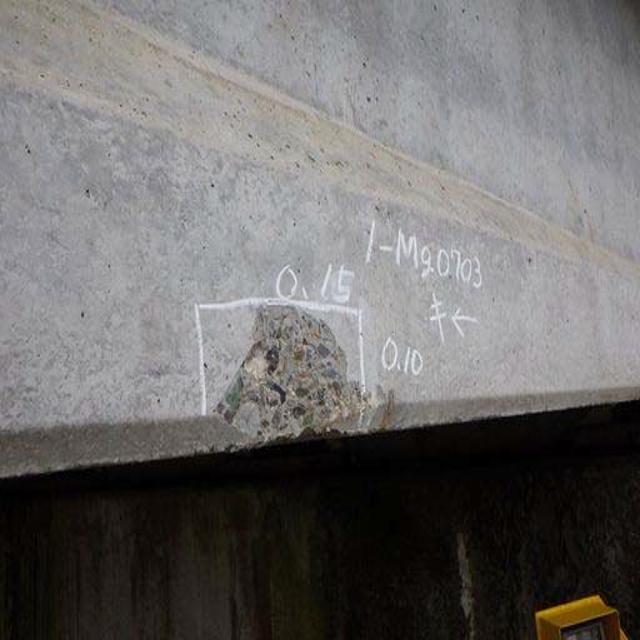spalling: (211, 304, 383, 449)
